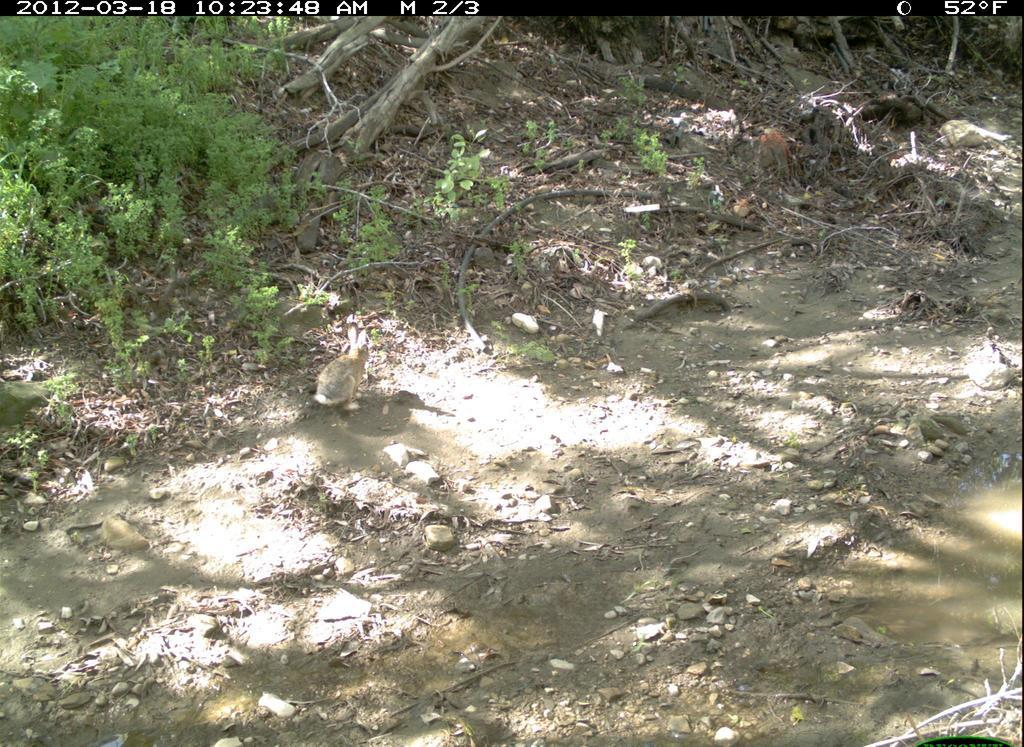rabbit: (303, 319, 392, 425)
